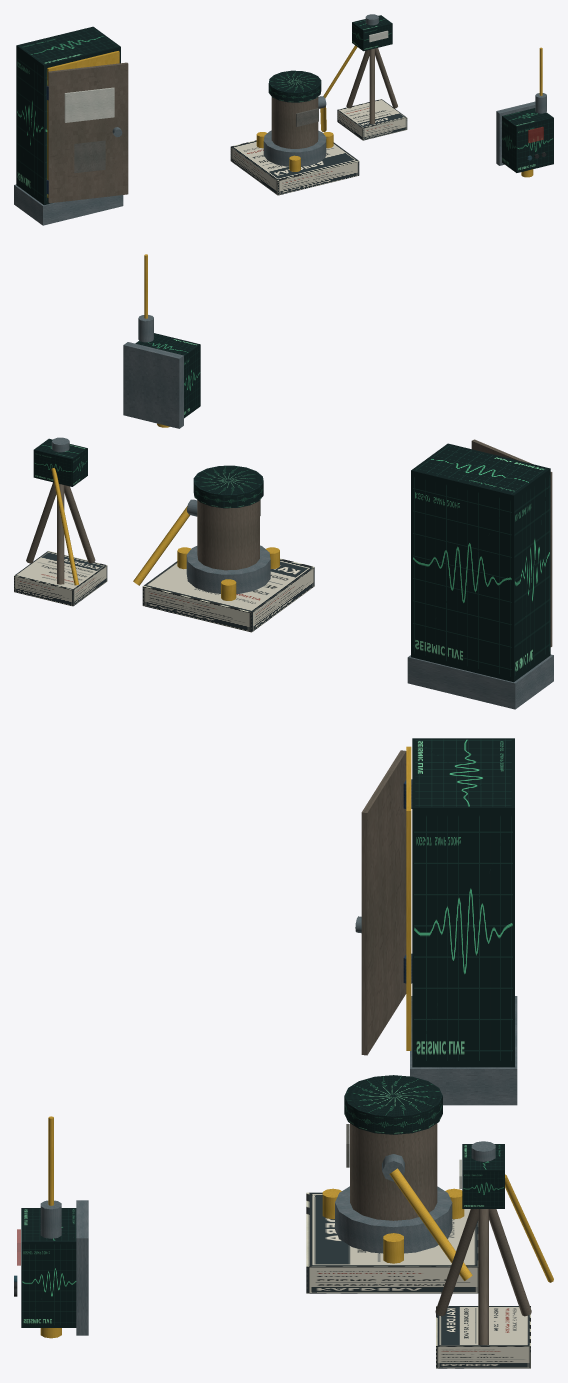
File: PZ_Seismic_Instrument_Pack.glb
3 renders of one model, top to bottom at view 1: azimuth 30°, elevation 25°; view 2: azimuth 150°, elevation 25°; view 3: azimuth 270°, elevation 25°, orthographic. The views are drawn at different scales.
Parts seen in each view (by area): view 1: R_Logger_Access_Door, R_Logger_Cabinet_Body, R_Seismometer_Foundation, R_Relay_Cast_Metal_Box, R_Logger_Raised_Base, R_Seismometer_Weatherproof_Housing, R_Tilt_Concrete_Anchor, R_Logger_Seismic_LCD, R_Seismometer_Cover, R_Seismometer_Heavy_Base, R_Tilt_Inclinometer_Case, R_Logger_KGS_Label (+6 smaller); view 2: R_Logger_Cabinet_Body, R_Seismometer_Foundation, R_Relay_Backplate, R_Logger_Raised_Base, R_Seismometer_Weatherproof_Housing, R_Tilt_Concrete_Anchor, R_Seismometer_Cover, R_Seismometer_Heavy_Base, R_Tilt_Inclinometer_Case, R_Relay_Cast_Metal_Box, R_Logger_Access_Door, R_Seismometer_Signal_Lead (+4 smaller); view 3: R_Logger_Cabinet_Body, R_Logger_Access_Door, R_Seismometer_Foundation, R_Seismometer_Weatherproof_Housing, R_Relay_Cast_Metal_Box, R_Tilt_Concrete_Anchor, R_Seismometer_Cover, R_Seismometer_Heavy_Base, R_Logger_Raised_Base, R_Tilt_Inclinometer_Case, R_Logger_Gasket, R_Relay_Backplate (+6 smaller).
Part boxes in pixels (left/top/right/bottom): R_Logger_Access_Door: left=48, top=62, right=128, bottom=203; R_Logger_Cabinet_Body: left=16, top=26, right=120, bottom=204; R_Seismometer_Foundation: left=230, top=140, right=359, bottom=195; R_Relay_Cast_Metal_Box: left=502, top=108, right=553, bottom=172; R_Logger_Raised_Base: left=14, top=184, right=123, bottom=225; R_Seismometer_Weatherproof_Housing: left=271, top=97, right=318, bottom=148; R_Tilt_Concrete_Anchor: left=337, top=99, right=407, bottom=140; R_Logger_Seismic_LCD: left=64, top=87, right=114, bottom=122; R_Seismometer_Cover: left=268, top=70, right=321, bottom=102; R_Seismometer_Heavy_Base: left=263, top=130, right=326, bottom=166; R_Tilt_Inclinometer_Case: left=352, top=15, right=392, bottom=51; R_Logger_KGS_Label: left=74, top=140, right=105, bottom=173; R_Logger_Cabinet_Body: left=411, top=443, right=550, bottom=682; R_Seismometer_Foundation: left=142, top=558, right=314, bottom=632; R_Relay_Backplate: left=123, top=342, right=183, bottom=428; R_Logger_Raised_Base: left=407, top=654, right=553, bottom=709; R_Seismometer_Weatherproof_Housing: left=197, top=500, right=259, bottom=570; R_Tilt_Concrete_Anchor: left=14, top=551, right=107, bottom=606; R_Seismometer_Cover: left=193, top=465, right=263, bottom=508; R_Seismometer_Heavy_Base: left=186, top=545, right=270, bottom=593; R_Tilt_Inclinometer_Case: left=33, top=438, right=87, bottom=486; R_Relay_Cast_Metal_Box: left=135, top=333, right=200, bottom=418; R_Logger_Access_Door: left=471, top=439, right=552, bottom=646; R_Seismometer_Signal_Lead: left=133, top=506, right=189, bottom=585; R_Logger_Cabinet_Body: left=412, top=738, right=514, bottom=1067; R_Logger_Access_Door: left=361, top=750, right=406, bottom=1055; R_Seismometer_Foundation: left=306, top=1192, right=478, bottom=1293; R_Seismometer_Weatherproof_Housing: left=350, top=1123, right=437, bottom=1220; R_Relay_Cast_Metal_Box: left=21, top=1208, right=76, bottom=1327; R_Tilt_Concrete_Anchor: left=436, top=1306, right=530, bottom=1368; R_Seismometer_Cover: left=344, top=1075, right=442, bottom=1134; R_Seismometer_Heavy_Base: left=335, top=1186, right=452, bottom=1253; R_Logger_Raised_Base: left=410, top=996, right=517, bottom=1105; R_Tilt_Inclinometer_Case: left=462, top=1144, right=504, bottom=1208; R_Logger_Gasket: left=406, top=746, right=411, bottom=1050; R_Relay_Backplate: left=76, top=1200, right=88, bottom=1335.
Size of the model in its own units: 3.51 by 1.3 by 2.16.
Materials: 2 (2 with a texture image).
